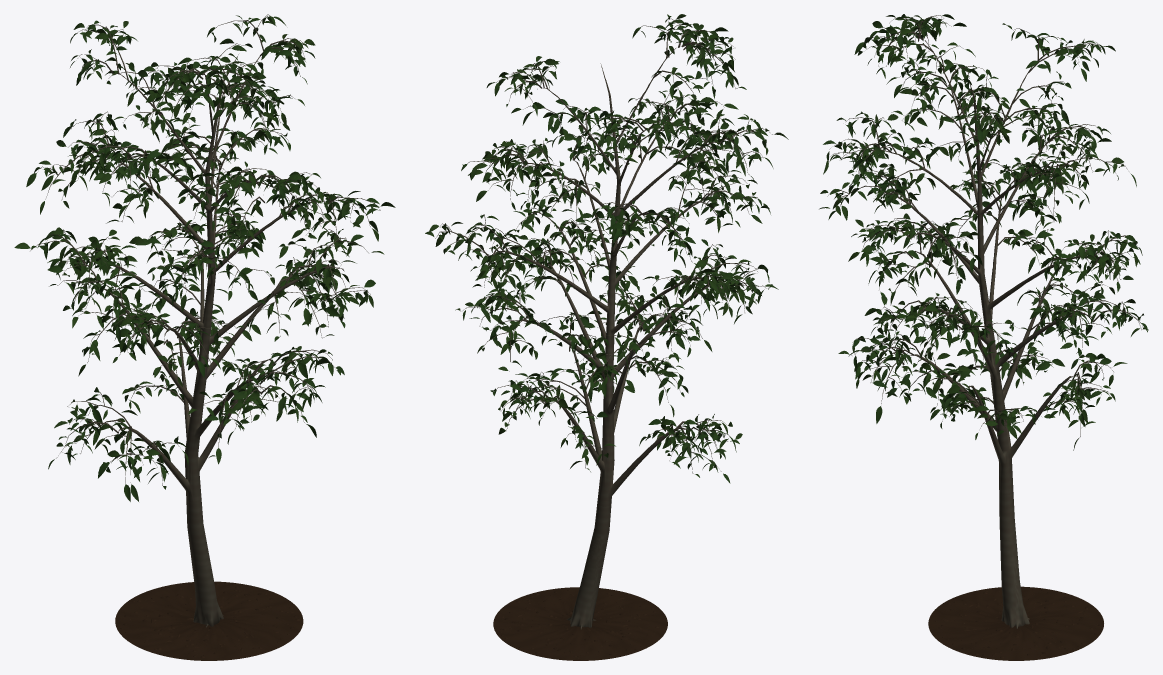
Rendered from fig-reading.glb.
The picture shows the model from 3 angles, left to right: view 1: azimuth 30°, elevation 25°; view 2: azimuth 150°, elevation 25°; view 3: azimuth 270°, elevation 25°; orthographic projection. The views are drawn at different scales.
Parts seen in each view (by area): view 1: Ficus mature pointed laminae, Ficus trunk branches petioles, Ficus irregular soil and organic particles, Ficus young pointed laminae; view 2: Ficus mature pointed laminae, Ficus trunk branches petioles, Ficus irregular soil and organic particles, Ficus young pointed laminae; view 3: Ficus mature pointed laminae, Ficus trunk branches petioles, Ficus irregular soil and organic particles, Ficus young pointed laminae.
Boxes of the visible parts, left/top/right/bottom form: Ficus mature pointed laminae: left=14, top=15, right=395, bottom=501; Ficus trunk branches petioles: left=30, top=14, right=380, bottom=627; Ficus irregular soil and organic particles: left=115, top=581, right=303, bottom=660; Ficus young pointed laminae: left=40, top=23, right=368, bottom=477; Ficus mature pointed laminae: left=429, top=14, right=788, bottom=483; Ficus trunk branches petioles: left=435, top=18, right=772, bottom=629; Ficus irregular soil and organic particles: left=493, top=587, right=667, bottom=660; Ficus young pointed laminae: left=425, top=22, right=772, bottom=477; Ficus mature pointed laminae: left=819, top=14, right=1147, bottom=450; Ficus trunk branches petioles: left=827, top=15, right=1142, bottom=628; Ficus irregular soil and organic particles: left=928, top=586, right=1103, bottom=660; Ficus young pointed laminae: left=849, top=21, right=1148, bottom=439.
Bounding box in the file's own units: 1.72 × 3.27 × 1.67.
4 materials, 4 textured.
